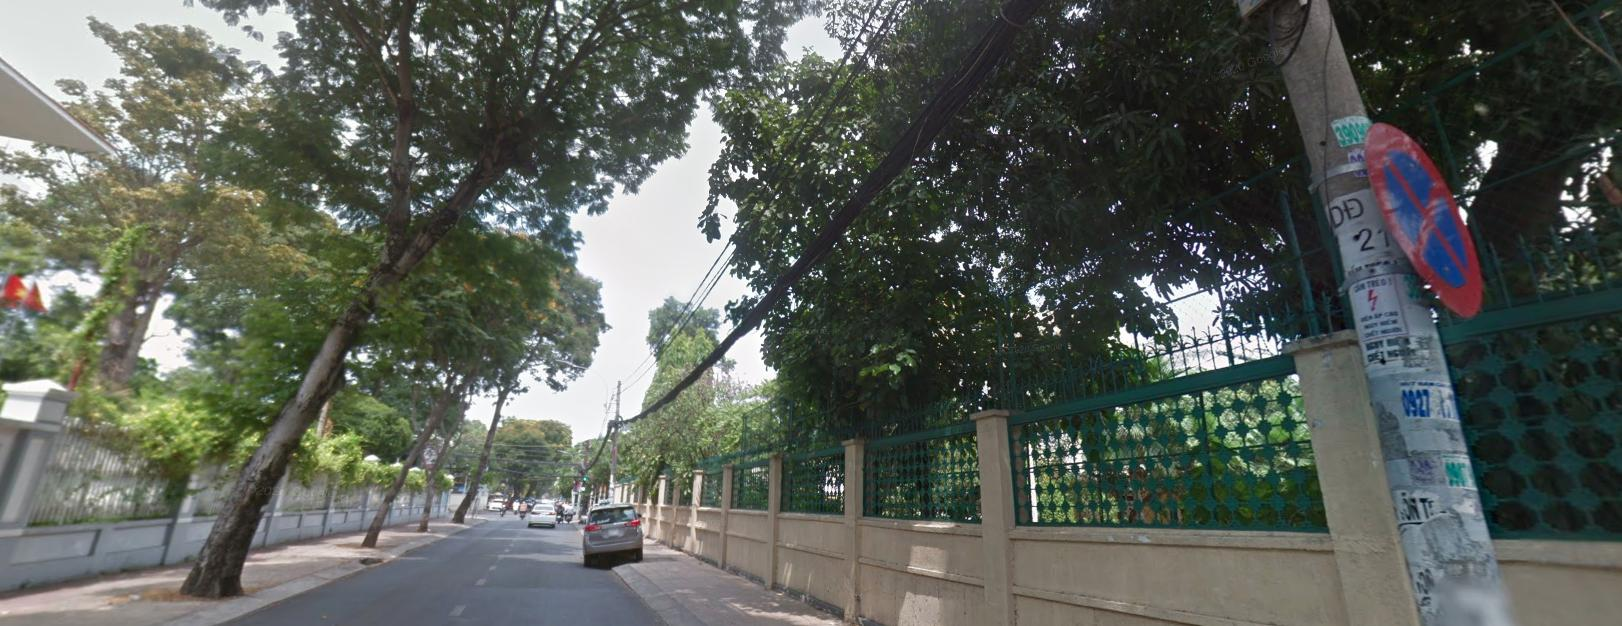Cam dung va do: (1361, 119, 1482, 315)
